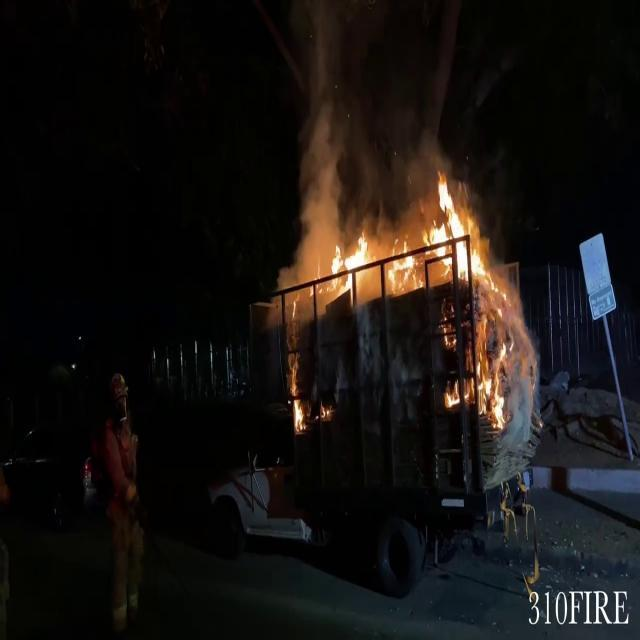Fire: (430, 172, 512, 426), (422, 172, 485, 289), (326, 228, 374, 290)
Smoke: (288, 2, 438, 242)
